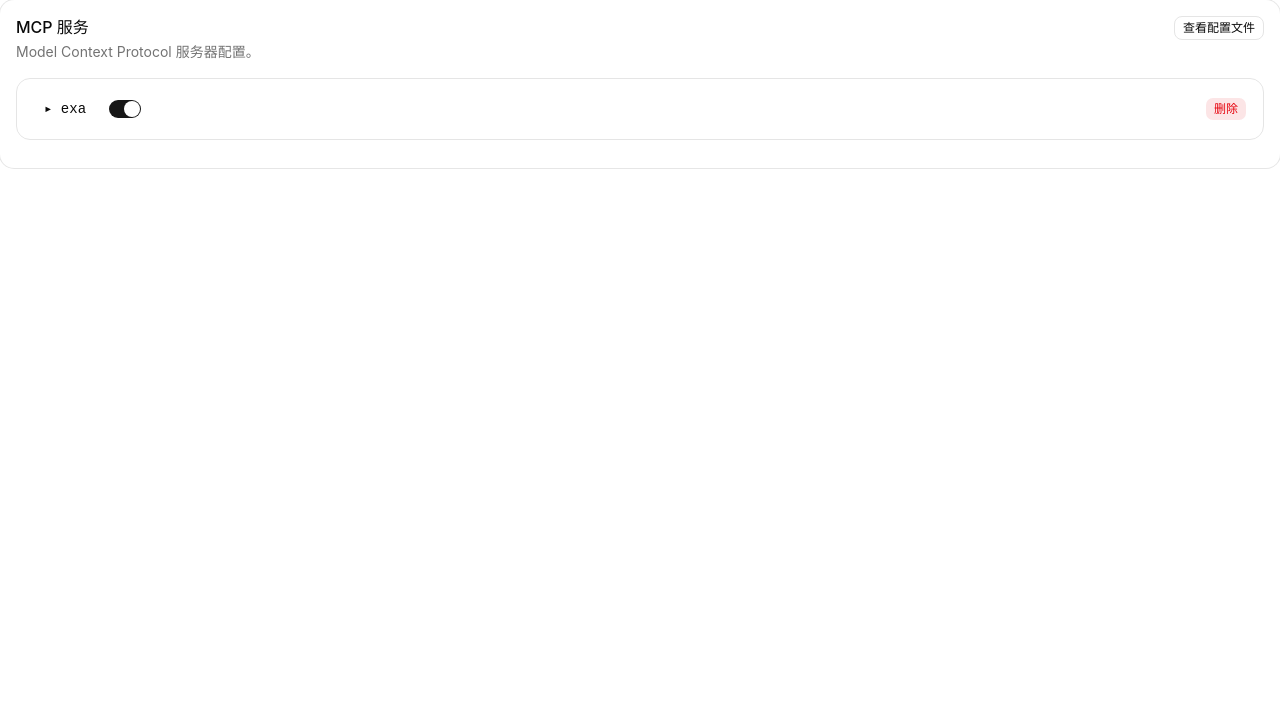
Test: McpPage › renders remote fields for a remote server after expanding
The width and height of the screenshot is (1280, 720).
Step 1. Click the button with aria-label "展开 exa" → [65, 109], box [33,95,97,123]
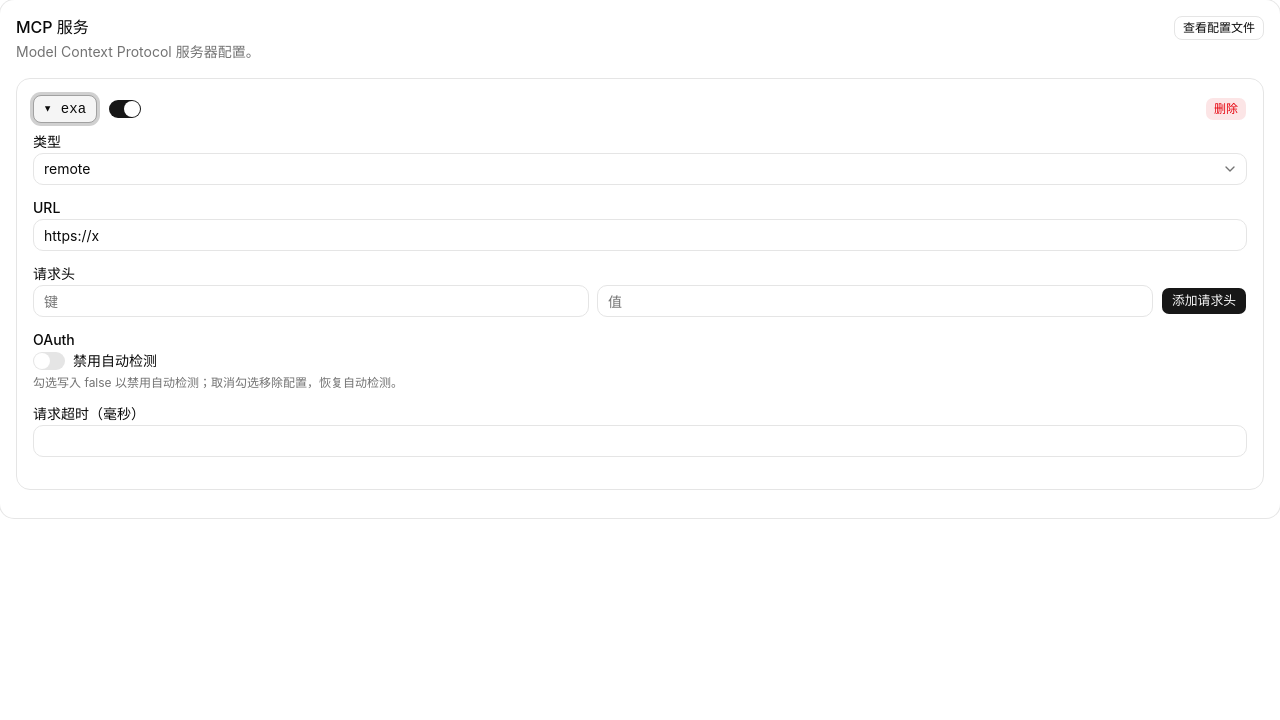
Check: the field named "URL" is shown, box [33,219,1247,251]
